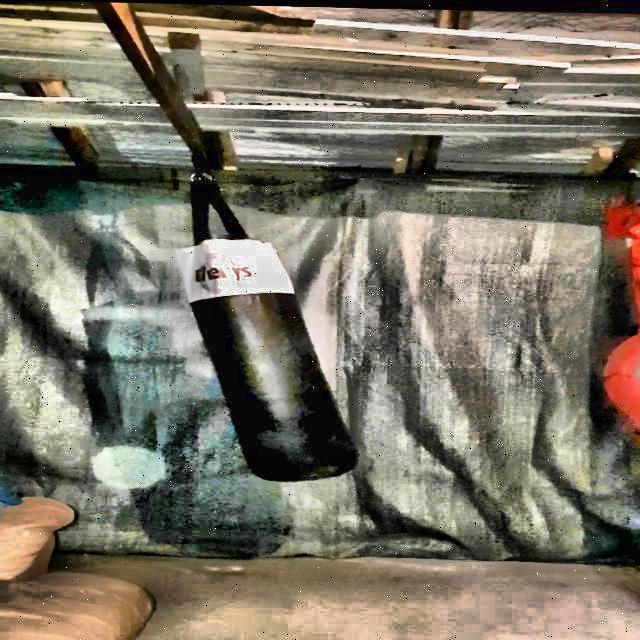boxing-bag: (178, 150, 364, 482)
